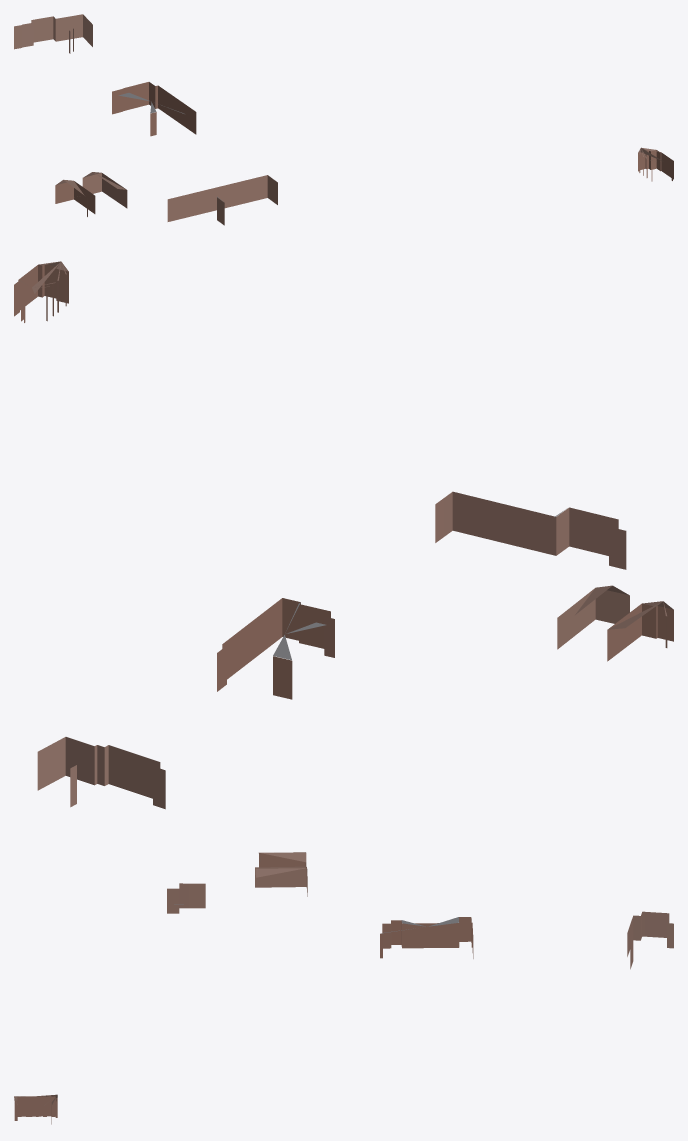
Rendered from c_1635_17833_buildings_residential.glb.
The picture shows the model from 3 angles, top to bottom: view 1: azimuth 30°, elevation 25°; view 2: azimuth 150°, elevation 25°; view 3: azimuth 270°, elevation 25°; orthographic projection. The views are drawn at different scales.
Visible parts, largest first — view 1: geometry_0; view 2: geometry_0; view 3: geometry_0.
Part boxes in pixels (box(x1,y1,x2,y2)): geometry_0: box(14, 14, 673, 225); geometry_0: box(14, 261, 673, 809); geometry_0: box(14, 852, 673, 1124).
Size of the model in its own units: 244 by 12.37 by 265.
